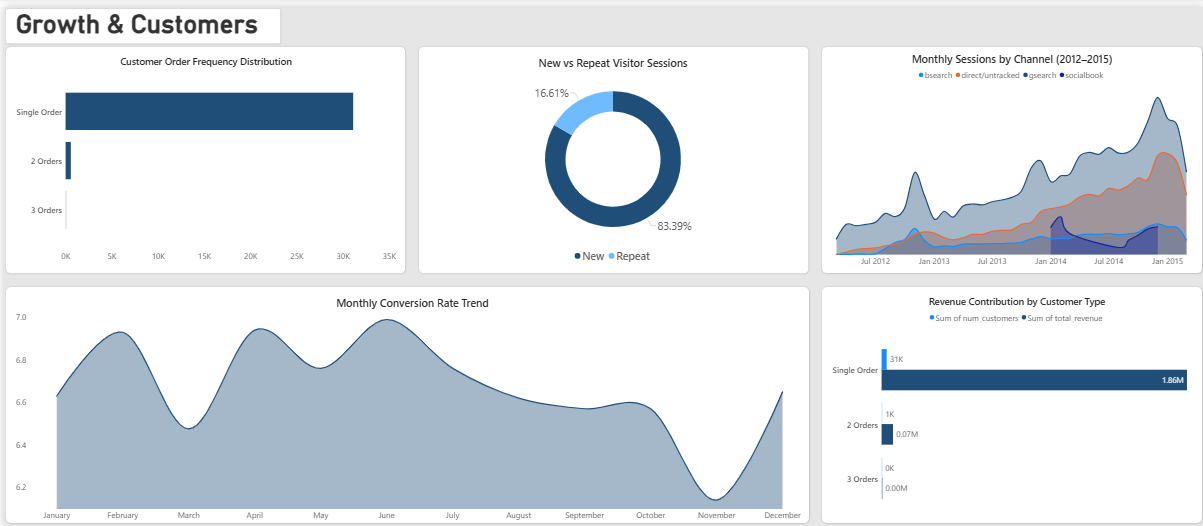

The page's visual inventory and layout, read from the dashboard file:
{"tool":"powerbi","page":{"name":"Growth & Customers","canvas":[3000,1300],"ordinal":2},"visuals":[{"type":"shape","box":[0,96,1008,576],"z":0},{"type":"shape","box":[0,695,2017.5,600],"z":2000},{"type":"lineChart","title":"Monthly Conversion Rate Trend","fields":{"Category":["04_monthly_trend.session_months.Variation.Date Hierarchy.Month"],"Y":["Median(04_monthly_trend.conversion_rate)"]},"box":[25,720,1992.5,575],"z":3000},{"type":"shape","box":[2040,695,960,600],"z":4000},{"type":"shape","box":[1032,96,984,576],"z":5000},{"type":"barChart","title":"Customer Order Frequency Distribution","fields":{"Category":["05_customer_behaviour.customer_type"],"Y":["Median(05_customer_behaviour.num_customers)"]},"box":[24,120,960,528],"z":6000},{"type":"shape","box":[0,0,696,96],"z":7000},{"type":"textbox","box":[25,0,635,95],"z":8000},{"type":"shape","box":[2040,95,960,575],"z":9000},{"type":"lineChart","title":"Monthly Sessions by Channel (2012–2015)","fields":{"Category":["04_channel_trends.session_months"],"Series":["04_channel_trends.utm_source"],"Y":["Median(04_channel_trends.total_sessions)"]},"box":[2040,110,960,550],"z":10000},{"type":"donutChart","title":"New vs Repeat Visitor Sessions","fields":{"Category":["05_repeat_vs_new_sessions.visitor_type"],"Y":["Sum(05_repeat_vs_new_sessions.total_sessions)"]},"box":[1055,120,935,527.5],"z":11000},{"type":"clusteredBarChart","title":"Revenue Contribution by Customer Type","fields":{"Category":["05_customer_behaviour.customer_type"],"Y":["Sum(05_customer_behaviour.num_customers)","Sum(05_customer_behaviour.total_revenue)"]},"box":[2065,720,935,575],"z":13000}]}

Visuals, with their boxes in screenshot pixels (x1, y1, x2, y2), scaled from the page's 3000x1300 canvas onto the 1203x526 screenshot:
shape: [0, 39, 404, 272]
shape: [0, 281, 809, 524]
"Monthly Conversion Rate Trend" lineChart: [10, 291, 809, 524]
shape: [818, 281, 1202, 524]
shape: [414, 39, 808, 272]
"Customer Order Frequency Distribution" barChart: [10, 49, 395, 262]
shape: [0, 0, 279, 39]
textbox: [10, 0, 265, 38]
shape: [818, 38, 1202, 271]
"Monthly Sessions by Channel (2012–2015)" lineChart: [818, 45, 1202, 267]
"New vs Repeat Visitor Sessions" donutChart: [423, 49, 798, 262]
"Revenue Contribution by Customer Type" clusteredBarChart: [828, 291, 1202, 524]
